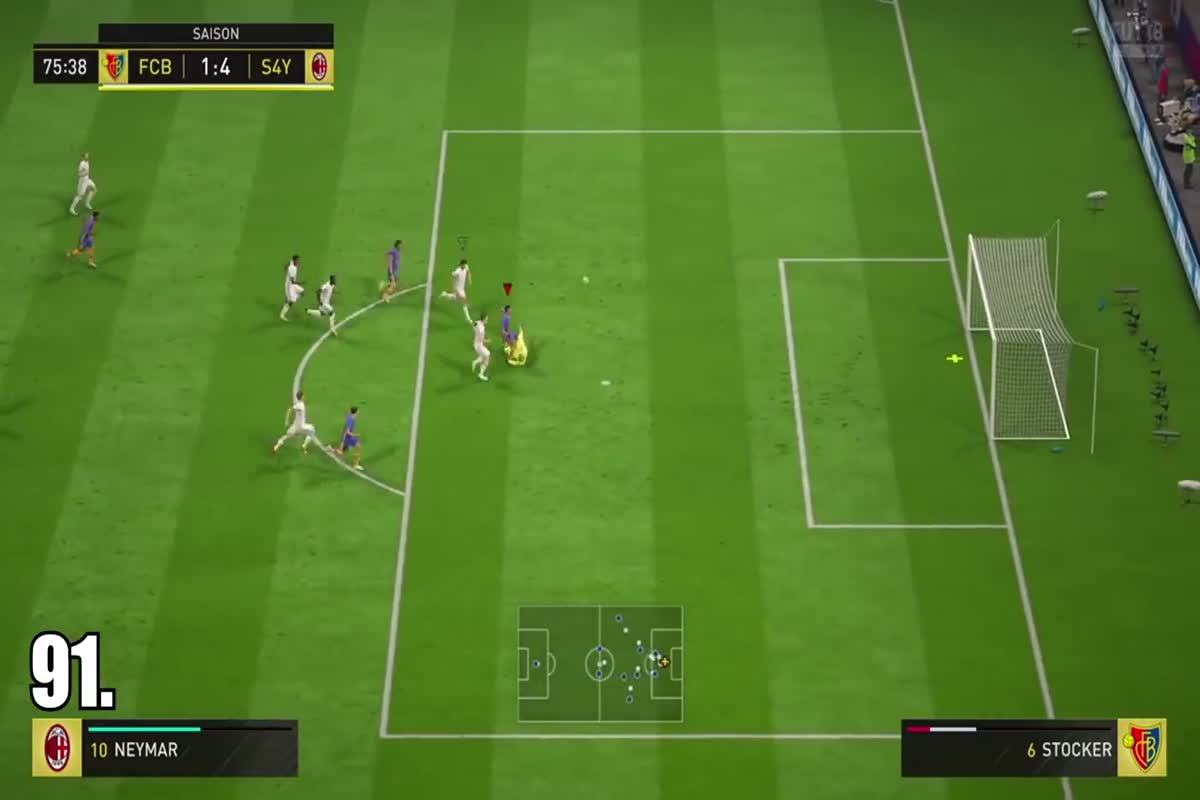ball: (573, 266, 609, 295)
